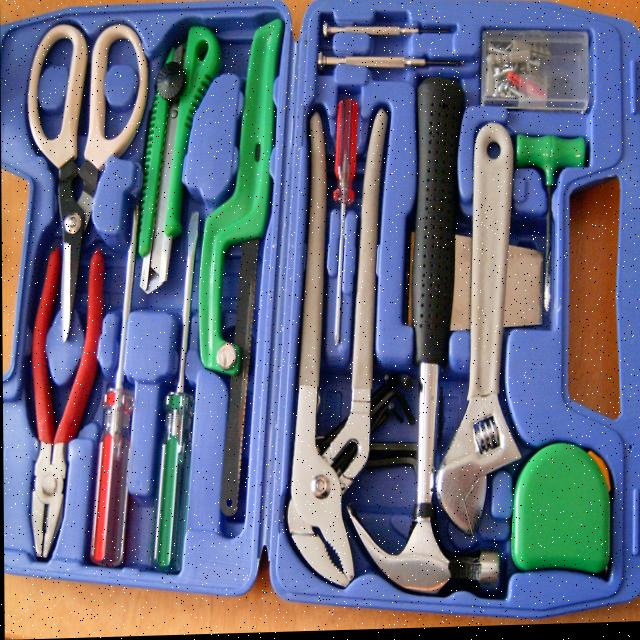Screwdriver: (89, 207, 139, 568), (151, 214, 199, 574), (332, 101, 358, 344)
